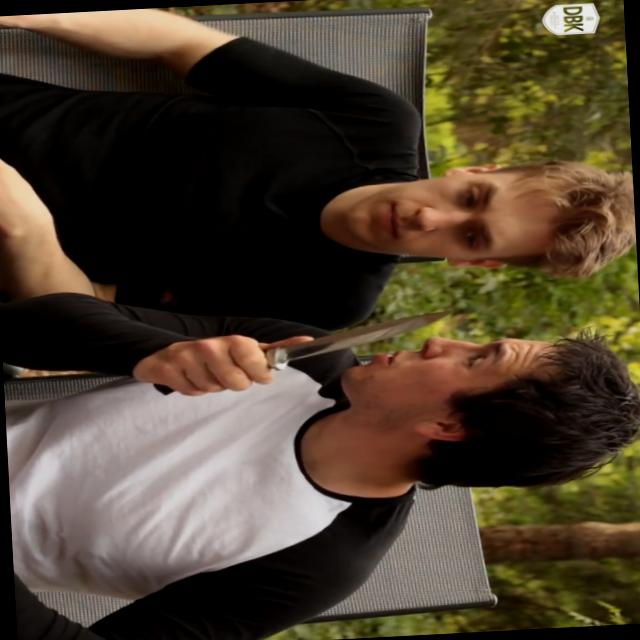knife: (193, 300, 481, 400)
